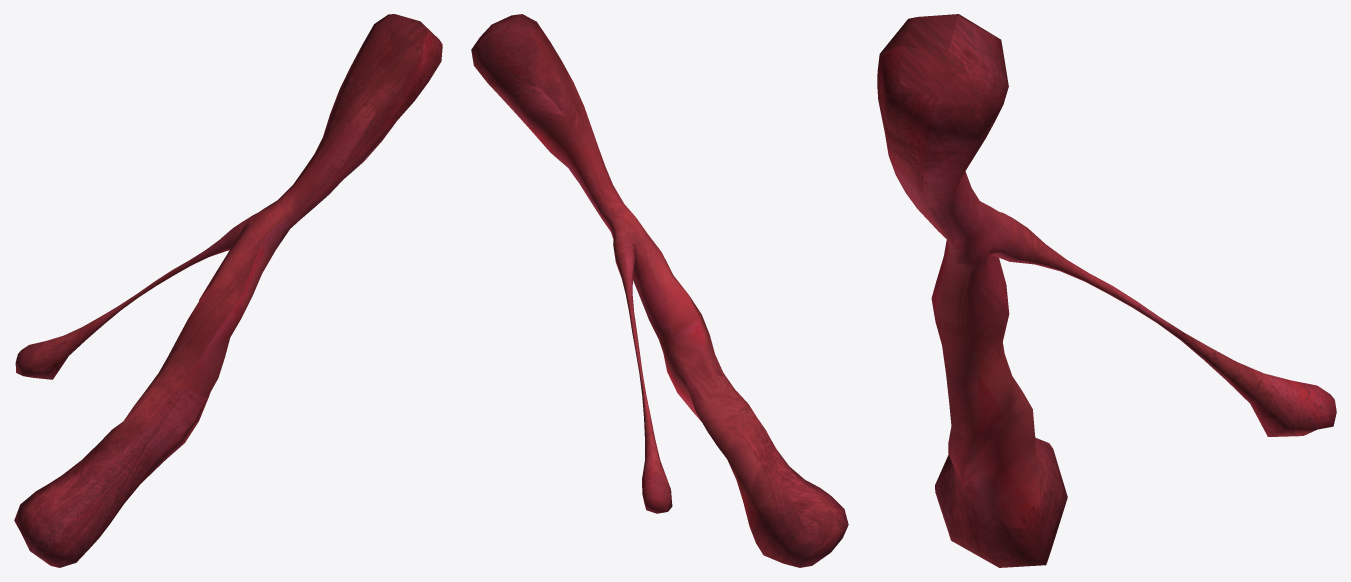
Rendered from vein-3.fbx.
3 views of the same model, side by side, from view 1: azimuth 30°, elevation 25°; view 2: azimuth 150°, elevation 25°; view 3: azimuth 270°, elevation 25° (orthographic). The views are drawn at different scales.
Parts seen in each view (by area): view 1: VEIN 3.001; view 2: VEIN 3.001; view 3: VEIN 3.001.
Boxes of the visible parts, left/top/right/bottom form: VEIN 3.001: left=14, top=14, right=442, bottom=567; VEIN 3.001: left=471, top=14, right=848, bottom=567; VEIN 3.001: left=877, top=14, right=1336, bottom=567.
Bounding box in the file's own units: 1115 × 1283 × 662.
